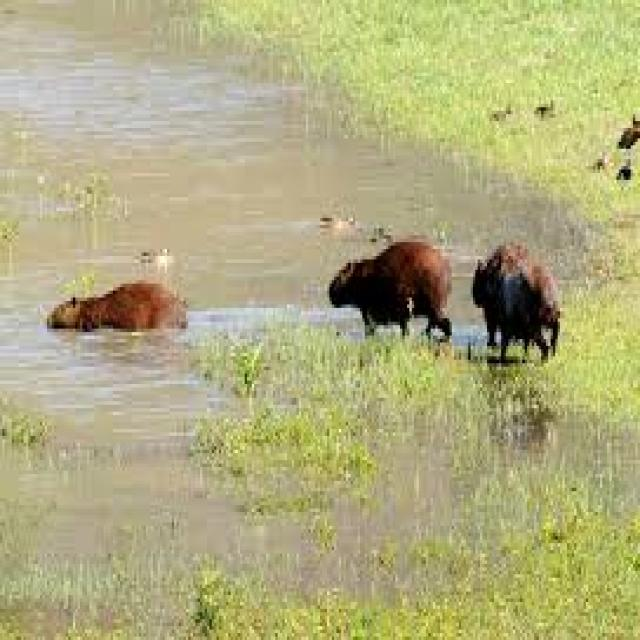capy: (325, 234, 456, 338), (473, 242, 561, 358), (47, 276, 187, 335)
